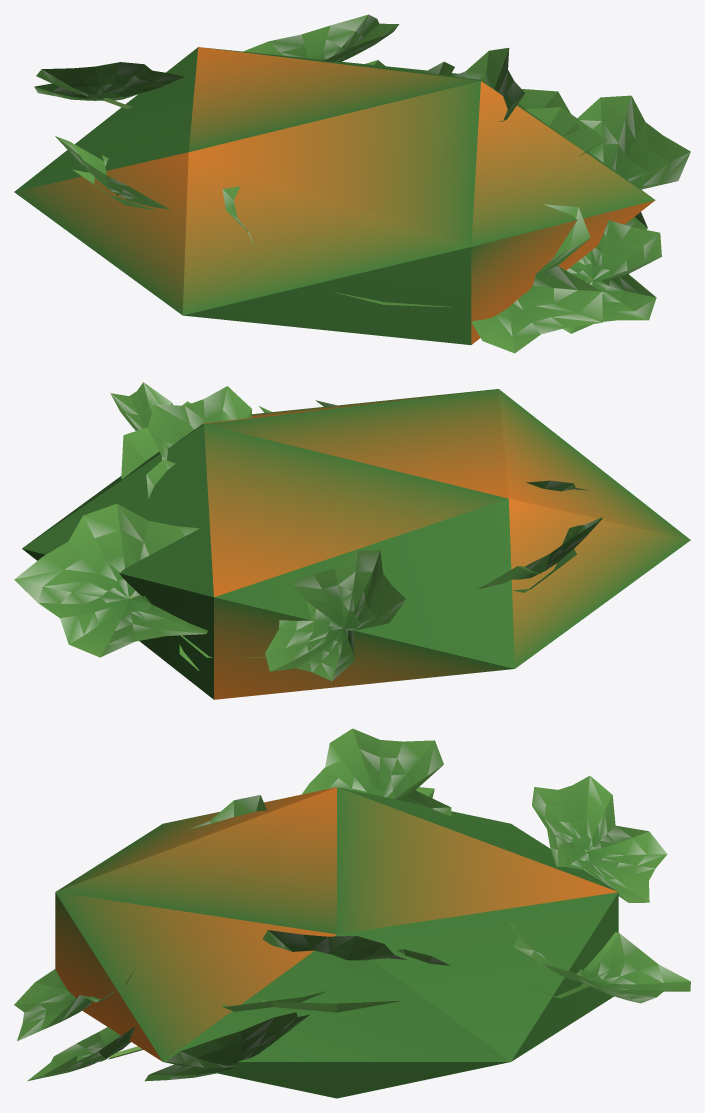
File: pumpkin.glb
3 views of the same model, one above another, from view 1: azimuth 30°, elevation 25°; view 2: azimuth 150°, elevation 25°; view 3: azimuth 270°, elevation 25° (orthographic). The views are drawn at different scales.
Visible parts, largest first — view 1: leaves (×3); view 2: leaves (×3); view 3: leaves (×3).
Boxes of the visible parts, x1,y1,x2,y2 form: leaves (×3): (14,14,690,353); leaves (×3): (14,382,690,699); leaves (×3): (14,728,690,1098).
Bounding box in the file's own units: 2.96 × 1 × 3.21.
